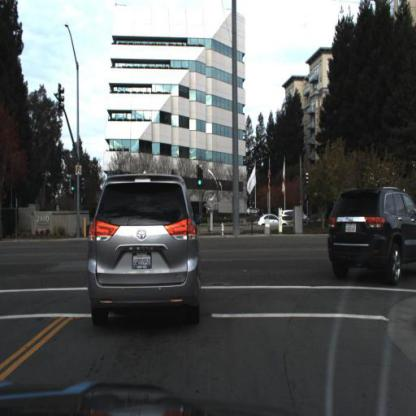car: (85, 169, 205, 335), (326, 177, 416, 289), (281, 208, 310, 232), (259, 212, 291, 232)
trafficLight-Green: (193, 153, 209, 202), (64, 171, 78, 202), (196, 163, 204, 190), (69, 176, 77, 196)
